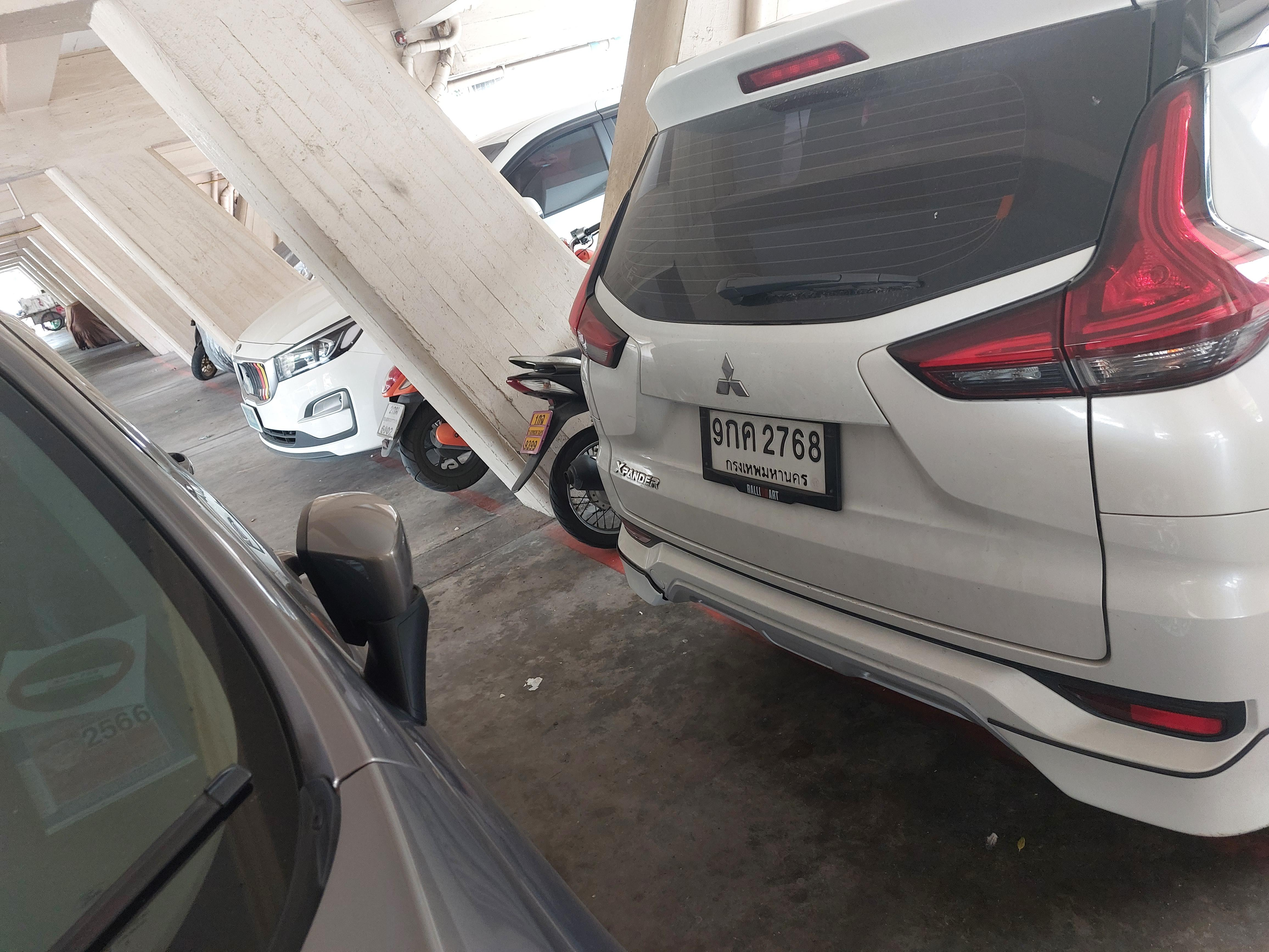license-plate: (699, 401, 849, 509), (518, 408, 553, 455), (371, 399, 407, 440)
